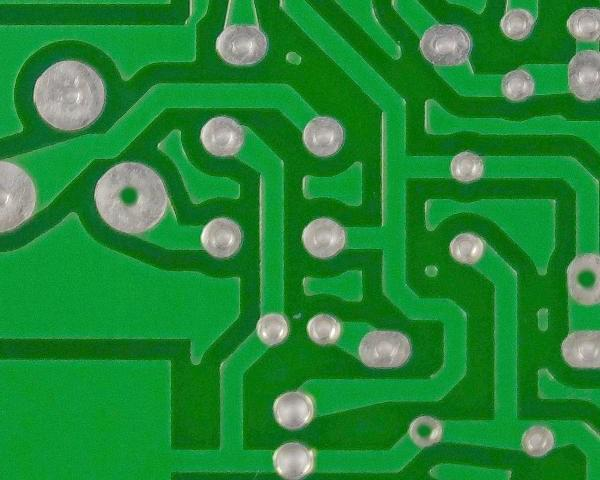missing hole: (88, 157, 175, 238), (563, 248, 600, 309), (405, 412, 446, 449)
